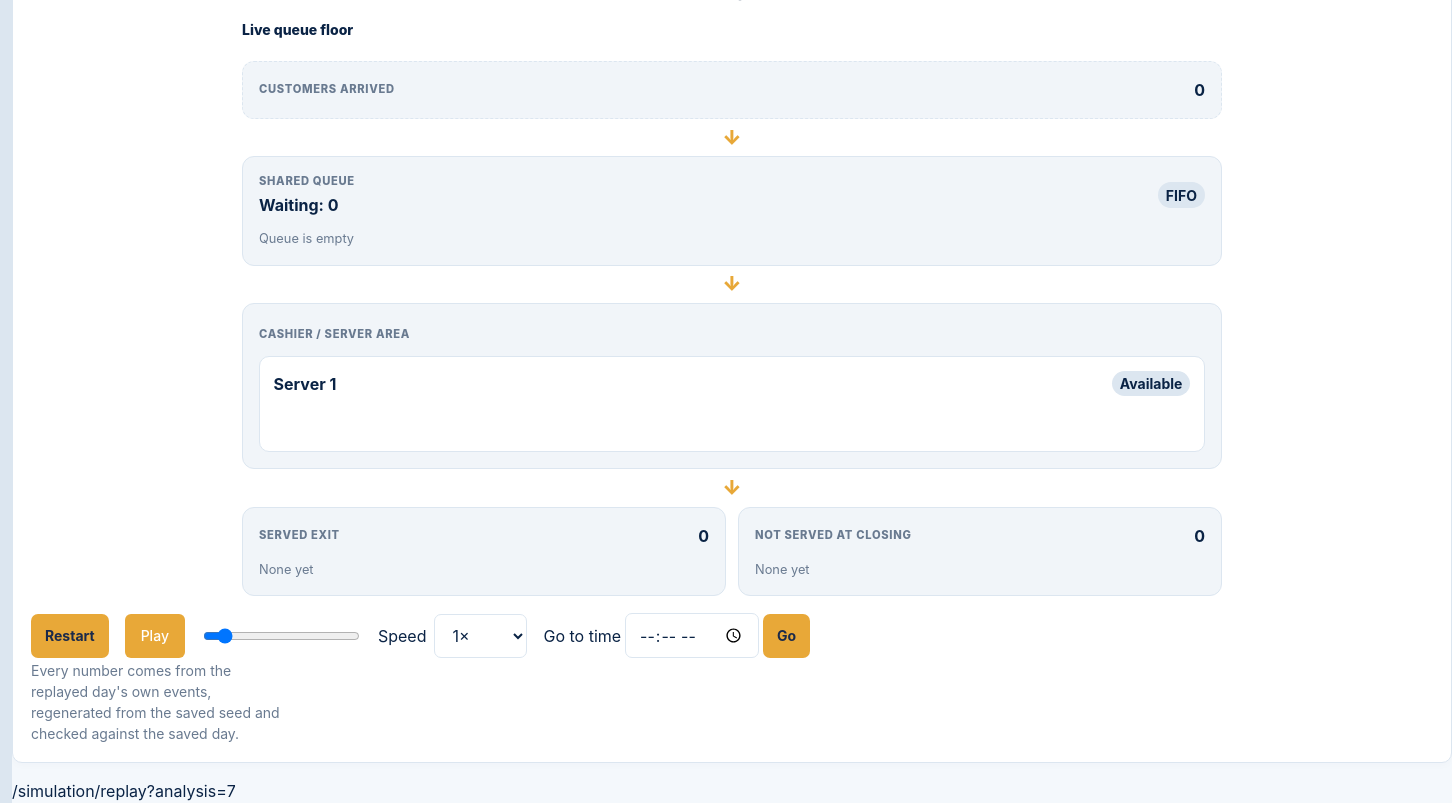
Test: shared full-day-only screen › draws the full-day visual from the saved playback across an hourly boundary
(page scrolled)
Type "09:00" into the time field labelled "Go to time" at x=692, y=636, box [625,614,759,658]
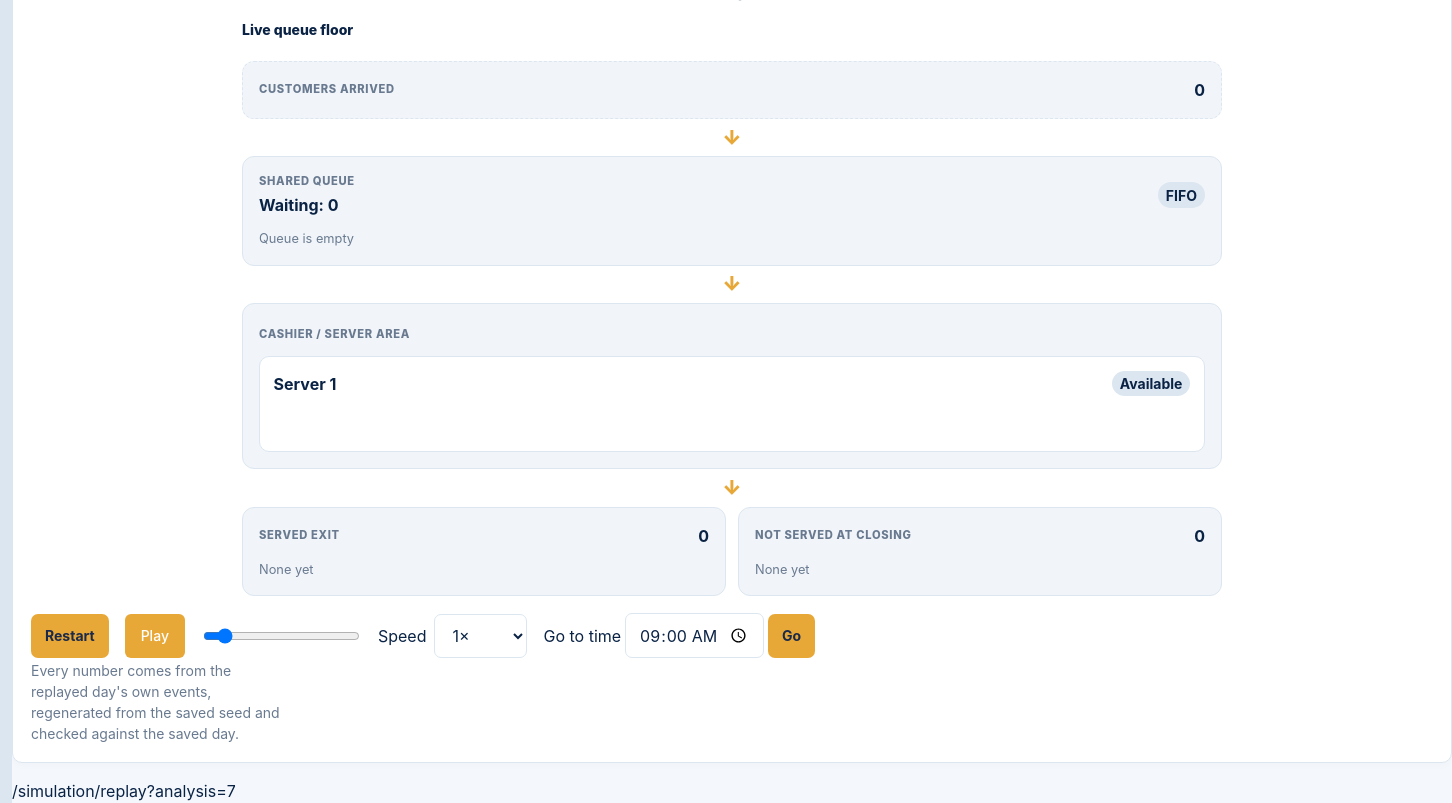
Click the button "Go" at x=791, y=636, box [768,614,815,658]
(page scrolled)
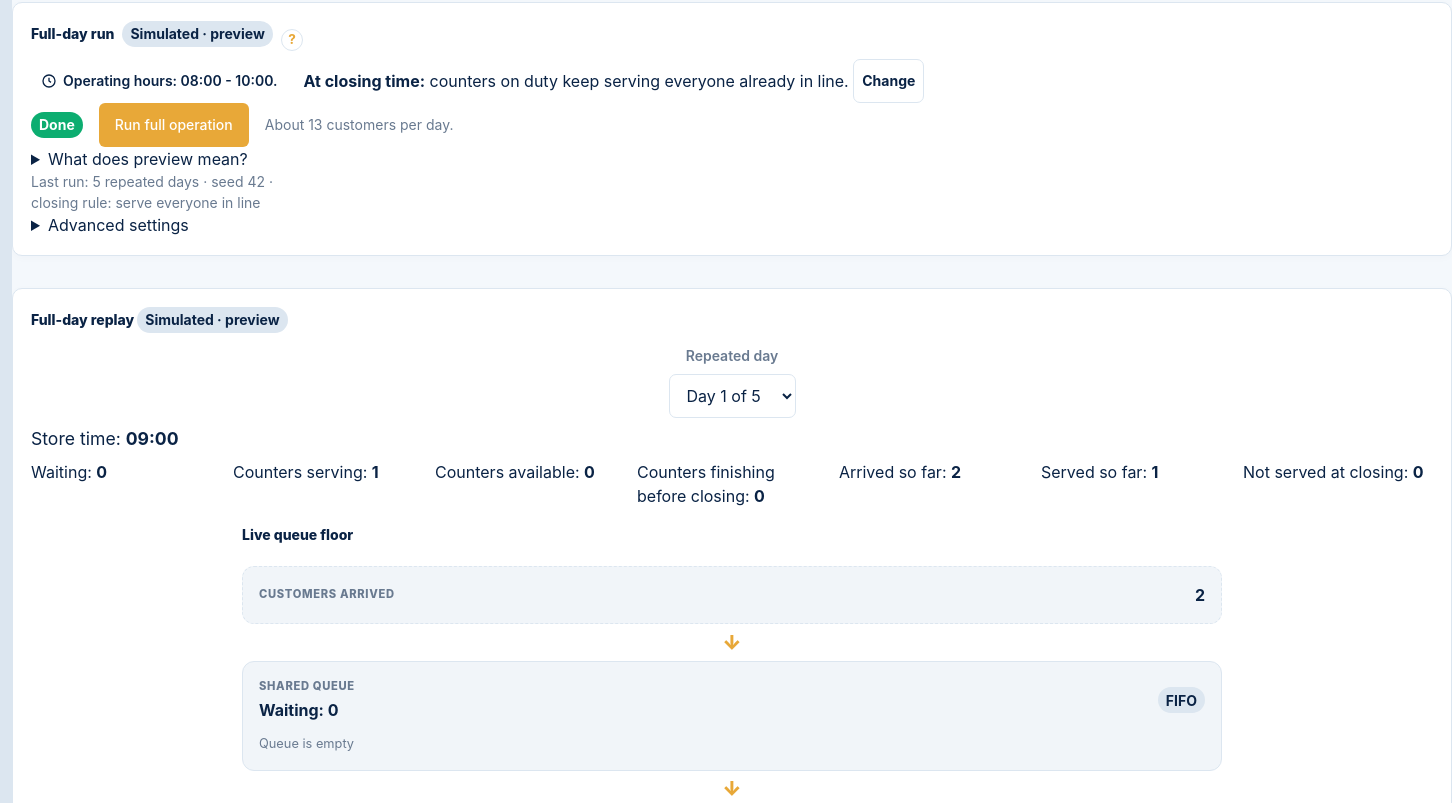
Check: the element with test id "continuous-clock" shows "09:00", box [126,428,179,449]
